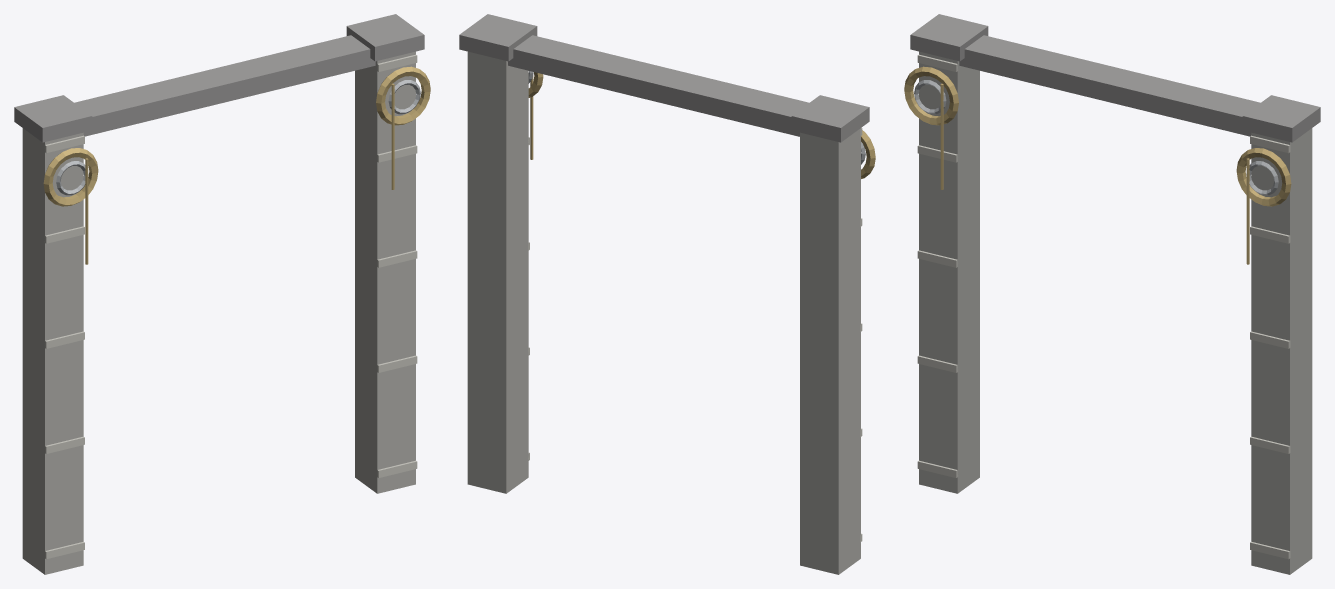
File: marco_reja.glb
3 views of the same model, side by side, from view 1: azimuth 30°, elevation 25°; view 2: azimuth 150°, elevation 25°; view 3: azimuth 330°, elevation 25° (orthographic).
Parts seen in each view (by area): view 1: marco_reja; view 2: marco_reja; view 3: marco_reja.
Boxes of the visible parts, box(x1,y1,x2,y2) form: marco_reja: box(14, 14, 430, 574); marco_reja: box(459, 14, 875, 574); marco_reja: box(904, 14, 1320, 574).
Bounding box in the file's own units: 5.01 × 5.57 × 0.7971.
